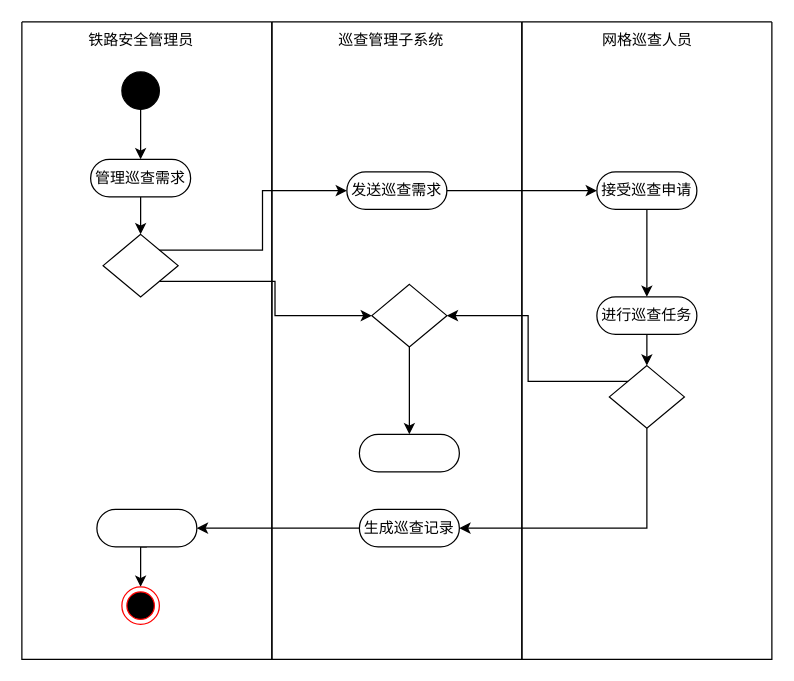
Image size: 794x681. Some labels were removed from this diagram. The centre of each missing label's shape, as x and y in pixels:
更新巡查信息: (408,452)
查看巡查记录: (146,527)
